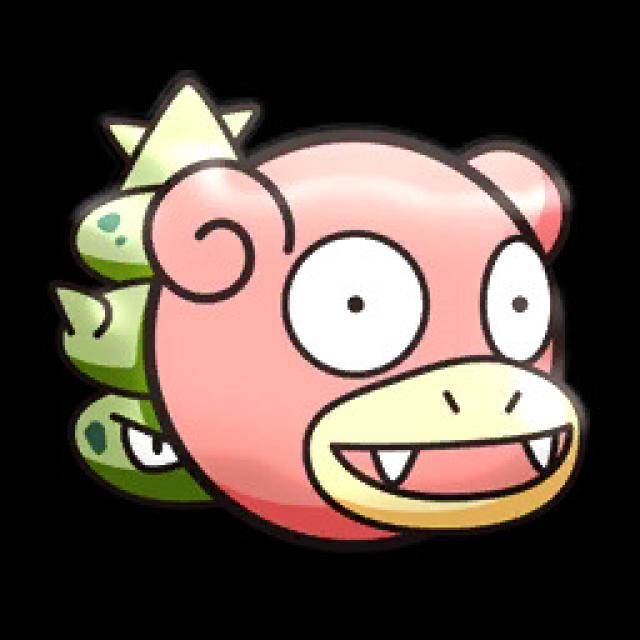Slowbro: (63, 76, 597, 531)
